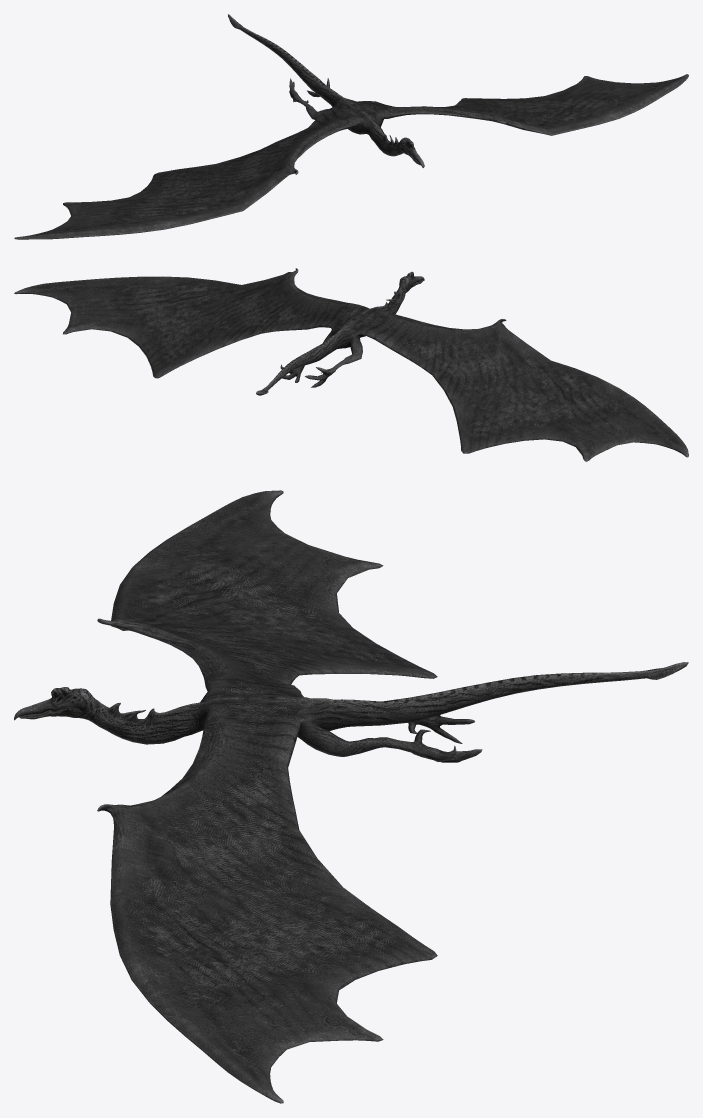
Rendered from Fellbeast_Animate_Flying_20.obj.
3 views of the same model, one above another, from view 1: azimuth 30°, elevation 25°; view 2: azimuth 150°, elevation 25°; view 3: azimuth 270°, elevation 25° (orthographic). The views are drawn at different scales.
Parts seen in each view (by area): view 1: Fellbeast; view 2: Fellbeast; view 3: Fellbeast.
Part boxes in pixels (box(x1,y1,x2,y2)): Fellbeast: box(14, 14, 688, 239); Fellbeast: box(14, 268, 688, 461); Fellbeast: box(14, 490, 688, 1103).
Size of the model in its own units: 9.39 by 1.02 by 4.39.
